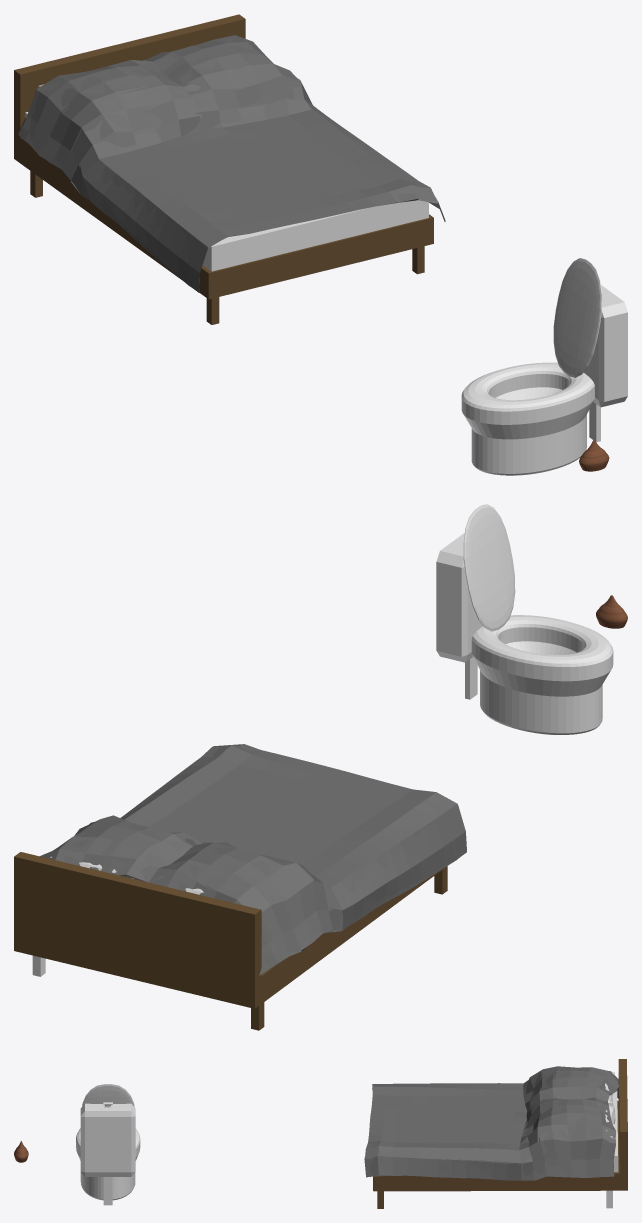
File: wcjam.fbx
3 renders of one model, top to bottom at view 1: azimuth 30°, elevation 25°; view 2: azimuth 150°, elevation 25°; view 3: azimuth 270°, elevation 25°, orthographic. The views are drawn at different scales.
Parts seen in each view (by area): view 1: Cube.008, Cube, Cylinder; view 2: Cube.008, Cube, Cylinder; view 3: Cube.008, Cube.
Boxes of the visible parts, left/top/right/bottom form: Cube.008: left=14, top=14, right=445, bottom=324; Cube: left=461, top=258, right=627, bottom=475; Cylinder: left=579, top=440, right=609, bottom=471; Cube.008: left=14, top=744, right=466, bottom=1030; Cube: left=436, top=504, right=613, bottom=734; Cylinder: left=596, top=595, right=627, bottom=628; Cube.008: left=364, top=1059, right=627, bottom=1208; Cube: left=76, top=1084, right=140, bottom=1205.
Size of the model in its own units: 154 by 108 by 498.
